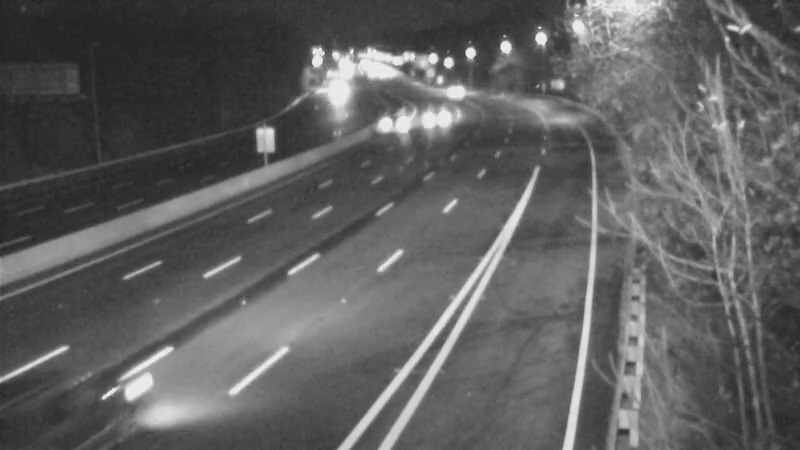vehicle: (1, 352, 101, 450), (431, 64, 481, 114), (400, 90, 450, 140), (359, 104, 409, 154)
